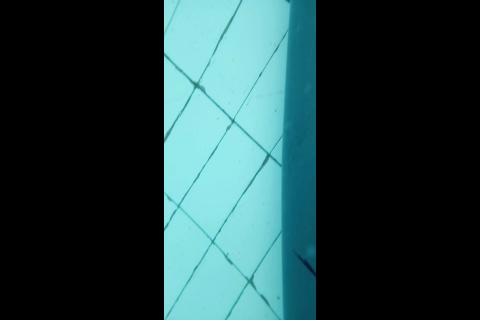keretakan: (291, 248, 315, 277)
